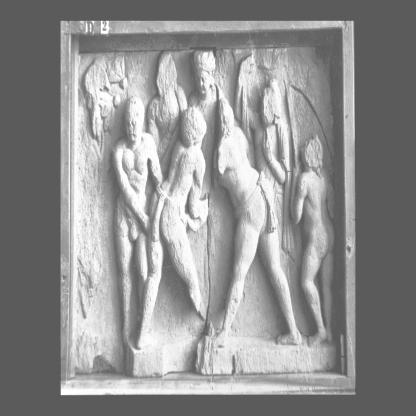buddha-standing: (188, 50, 218, 174)
